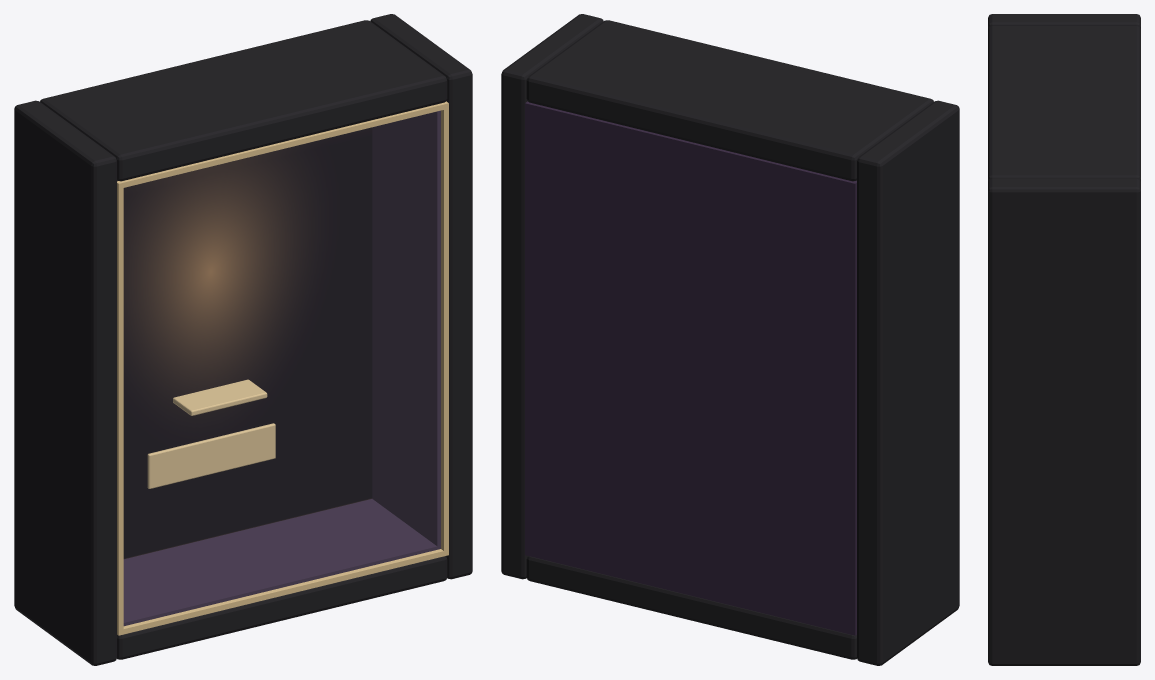
The model's file is trophy_shadow_box.glb.
3 renders of one model, left to right at view 1: azimuth 30°, elevation 25°; view 2: azimuth 150°, elevation 25°; view 3: azimuth 270°, elevation 25°, orthographic. The views are drawn at different scales.
Visible parts, largest first — view 1: spot_glow, frame_side_-1.001, frame_top.001, lining_right, lining_bottom, frame_side_1.001, frame_bottom.001, plaque, lip_right.001, lip_left.001, lip_bottom.001, lip_top.001 (+1 smaller); view 2: back, frame_side_-1.001, frame_top.001, frame_side_1.001, frame_bottom.001; view 3: frame_side_1.001, frame_top.001, frame_side_-1.001.
Boxes of the visible parts, bbox=[...] form: spot_glow: bbox=[117, 127, 372, 559]; frame_side_-1.001: bbox=[14, 100, 116, 665]; frame_top.001: bbox=[40, 20, 447, 181]; lining_right: bbox=[372, 110, 440, 549]; lining_bottom: bbox=[123, 499, 440, 626]; frame_side_1.001: bbox=[370, 14, 472, 579]; frame_bottom.001: bbox=[117, 556, 447, 659]; plaque: bbox=[147, 423, 275, 488]; lip_right.001: bbox=[441, 103, 448, 556]; lip_left.001: bbox=[117, 183, 123, 635]; lip_bottom.001: bbox=[118, 549, 443, 635]; lip_top.001: bbox=[117, 101, 448, 188]; back: bbox=[525, 101, 856, 635]; frame_side_-1.001: bbox=[857, 100, 959, 665]; frame_top.001: bbox=[526, 20, 933, 181]; frame_side_1.001: bbox=[501, 14, 603, 579]; frame_bottom.001: bbox=[526, 556, 856, 659]; frame_side_1.001: bbox=[988, 178, 1140, 665]; frame_top.001: bbox=[988, 25, 1140, 181]; frame_side_-1.001: bbox=[988, 14, 1140, 28].
Size of the model in its own units: 0.3 by 0.38 by 0.11.
Materials: 6 (1 with a texture image).
